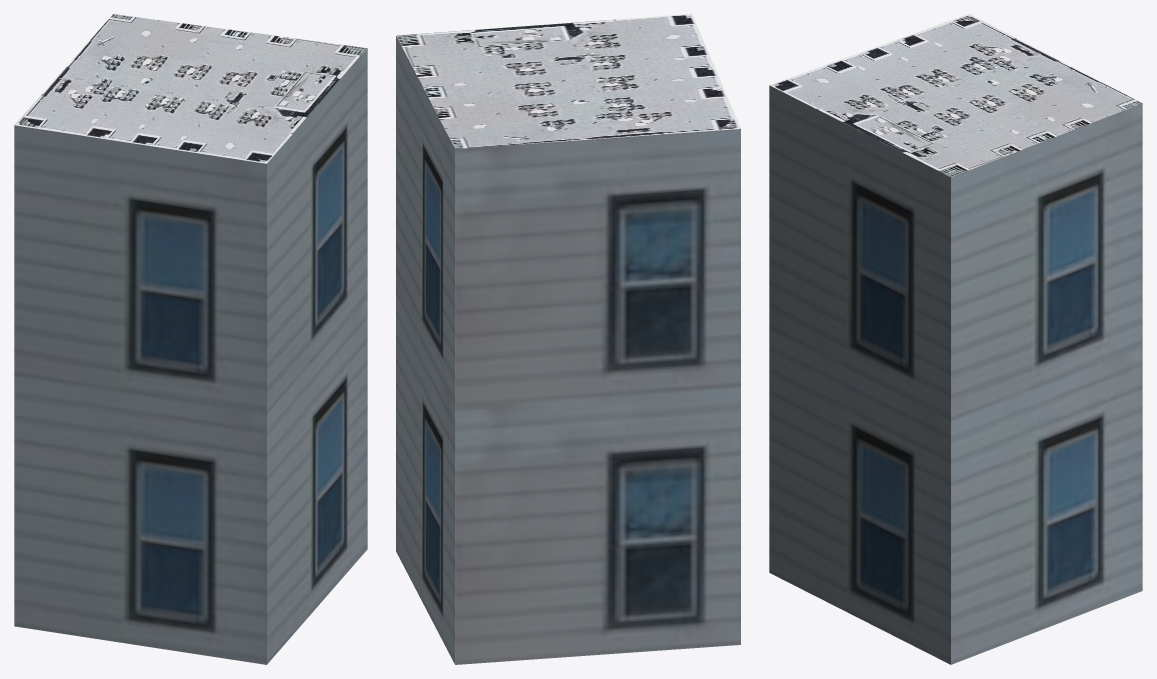
Rendered from ResTex__1580.fbx.
The picture shows the model from 3 angles, left to right: view 1: azimuth 30°, elevation 25°; view 2: azimuth 150°, elevation 25°; view 3: azimuth 270°, elevation 25°; orthographic projection. The views are drawn at different scales.
Visible parts, largest first — view 1: CityEngineMaterial_18_m, CityEngineMaterial_4_m; view 2: CityEngineMaterial_18_m, CityEngineMaterial_4_m; view 3: CityEngineMaterial_18_m, CityEngineMaterial_4_m.
Boxes of the visible parts, x1,y1,x2,y2 form: CityEngineMaterial_18_m: (14,48,367,664); CityEngineMaterial_4_m: (14,14,367,163); CityEngineMaterial_18_m: (396,36,740,664); CityEngineMaterial_4_m: (396,14,740,148); CityEngineMaterial_18_m: (769,85,1142,664); CityEngineMaterial_4_m: (769,14,1142,177).
Bounding box in the file's own units: 4.31 × 6 × 4.17.
Materials: 2 (2 with a texture image).
